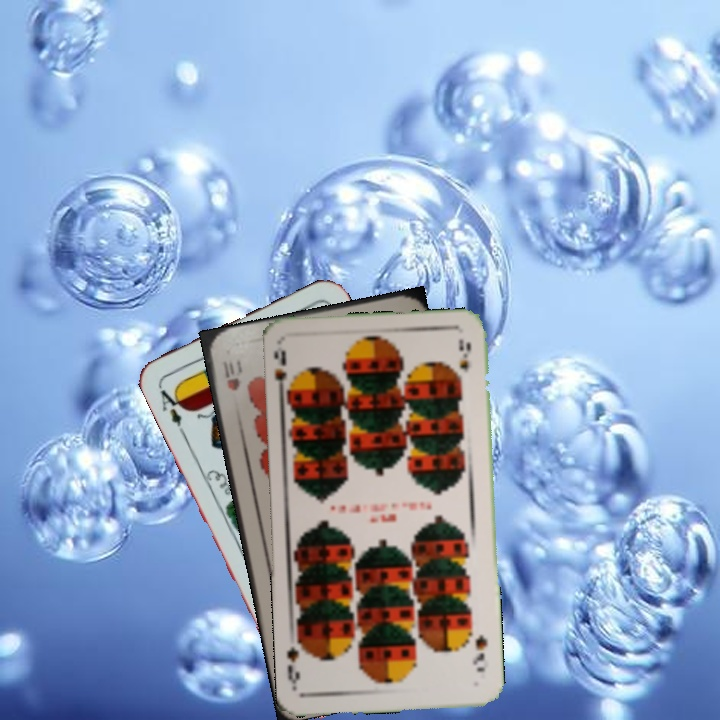EA: (155, 382, 189, 437)
H10: (218, 357, 243, 393)
S9: (270, 346, 297, 400), (469, 631, 490, 675)
